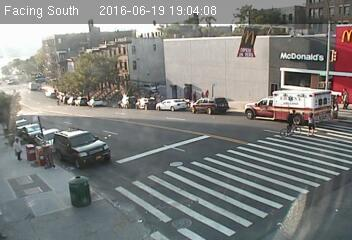neg: (223, 151, 262, 203), (156, 74, 190, 120), (47, 41, 73, 76), (65, 173, 88, 204), (30, 149, 53, 180), (148, 186, 171, 216), (80, 130, 102, 159), (282, 110, 303, 138), (297, 180, 318, 208), (115, 47, 135, 73), (187, 142, 206, 168), (46, 97, 64, 122), (123, 108, 141, 132), (299, 53, 316, 76), (213, 88, 229, 109), (263, 46, 278, 66), (198, 51, 211, 69)
pos: (302, 109, 320, 132), (8, 134, 25, 157)
